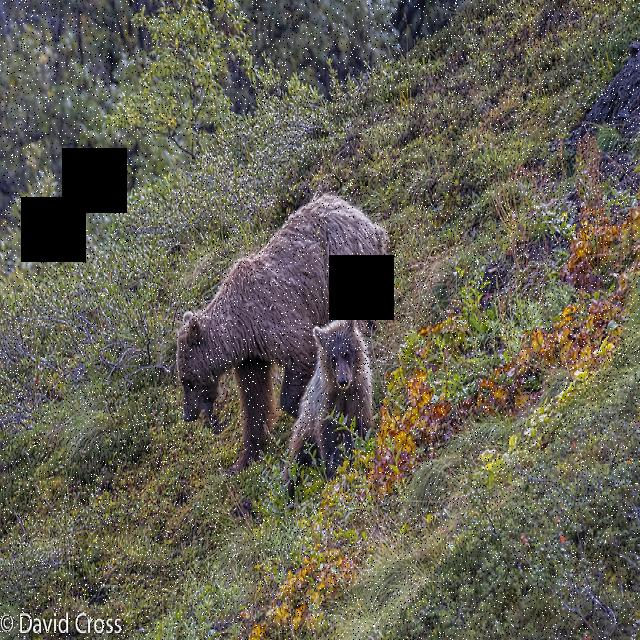Bear: (156, 184, 388, 461), (293, 310, 382, 480)
